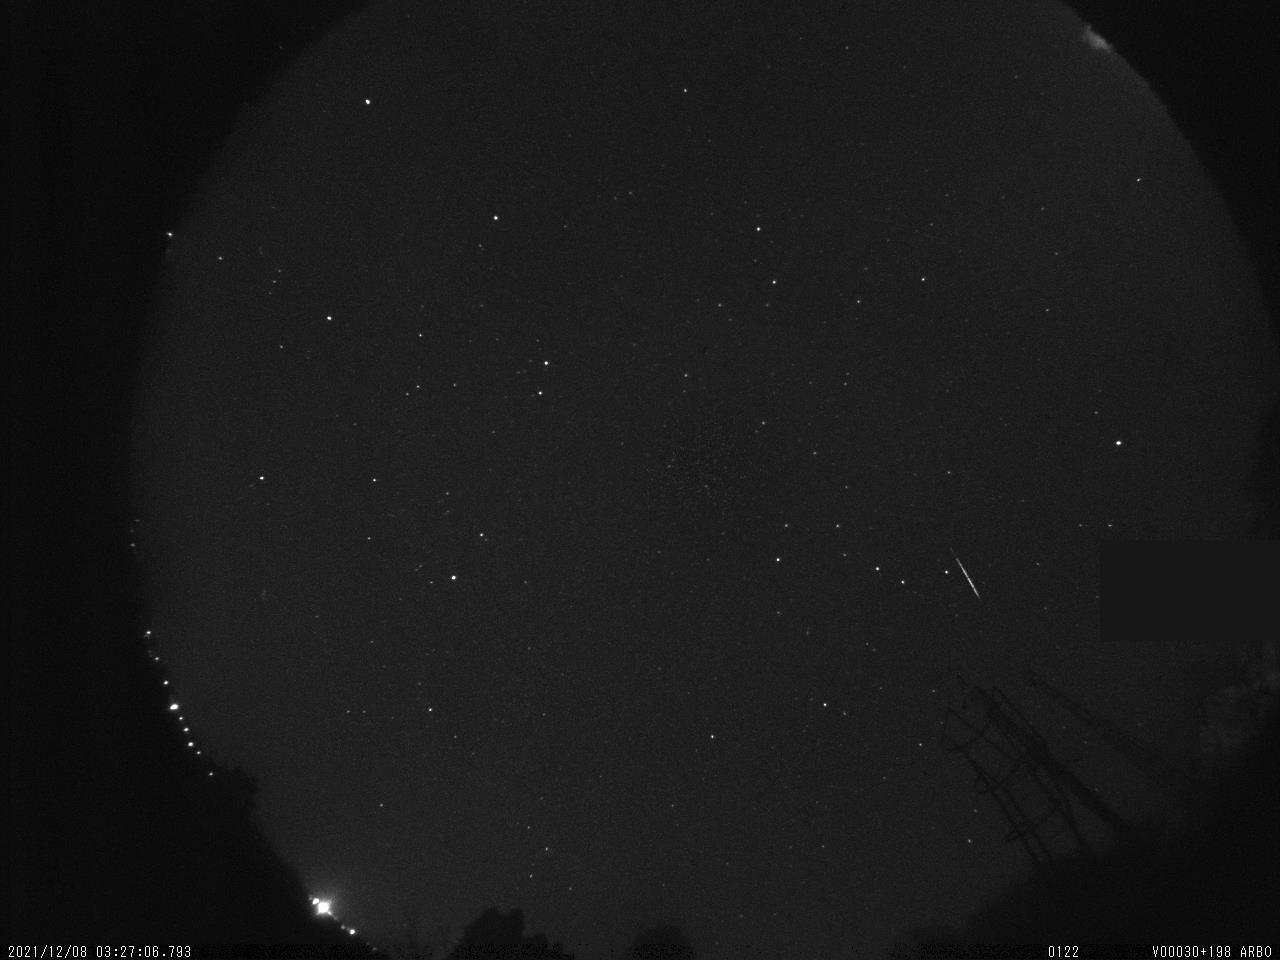meteor: (943, 544, 994, 616)
